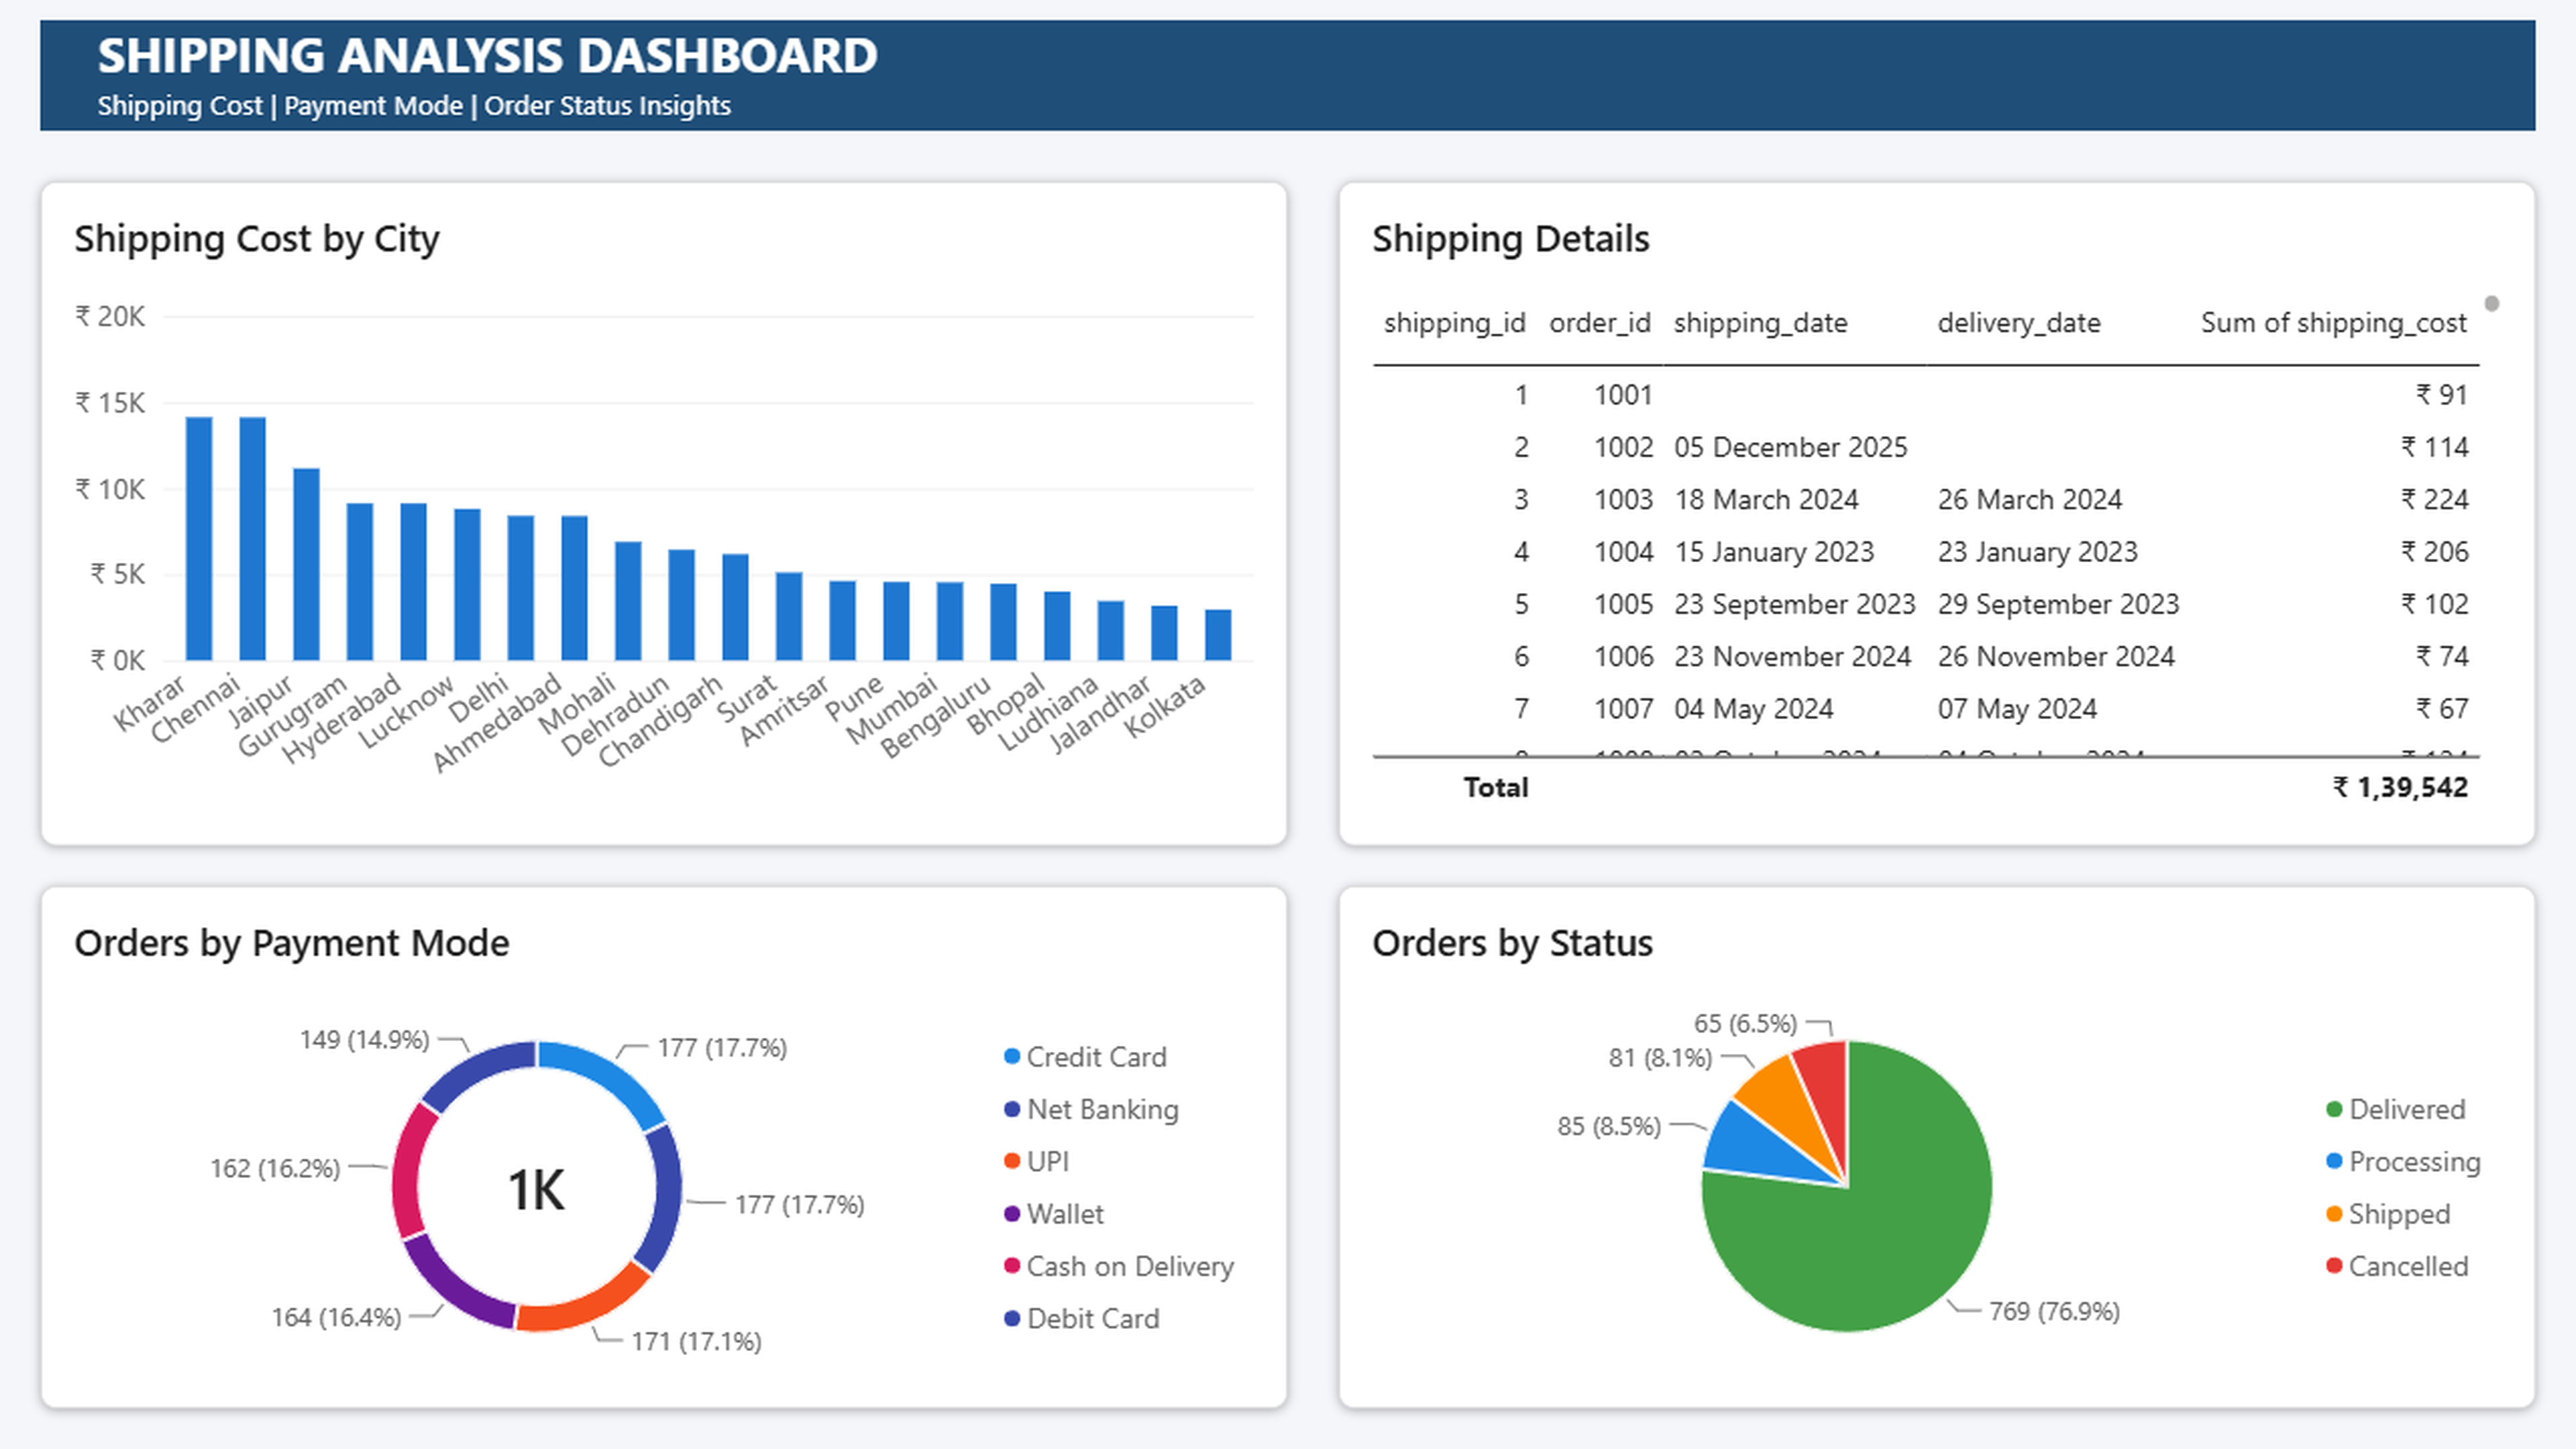

Layout of this report page (visuals, bound fields, positions):
{"tool":"powerbi","page":{"name":"Shipping Analysis","canvas":[1280,720],"ordinal":3},"visuals":[{"type":"clusteredColumnChart","title":"Shipping Cost by City","fields":{"Category":["retail_analytics customers.city"],"Y":["Sum(retail_analytics shipping.shipping_cost)"]},"box":[20,90,620,330],"z":0},{"type":"donutChart","title":"Orders by Payment Mode","fields":{"Category":["retail_analytics orders.payment_mode"],"Y":["CountNonNull(retail_analytics orders.order_id)"]},"box":[20,440,620,260],"z":1000},{"type":"pieChart","title":"Orders by Status","fields":{"Category":["retail_analytics orders.order_status"],"Y":["CountNonNull(retail_analytics orders.order_id)"]},"box":[665,440,595,260],"z":2000},{"type":"tableEx","title":"Shipping Details","fields":{"Values":["retail_analytics shipping.shipping_id","retail_analytics shipping.order_id","retail_analytics shipping.shipping_date","retail_analytics shipping.delivery_date","Sum(retail_analytics shipping.shipping_cost)"]},"box":[665,90,595,330],"z":3000},{"type":"shape","box":[20,10,1240,55],"z":4000},{"type":"textbox","box":[49.3,10.6,464.1,53],"z":5000}]}

Visuals, with their boxes in screenshot pixels (x1, y1, x2, y2), scaled from the page's 1280x720 canvas onto the 2576x1449 screenshot:
"Shipping Cost by City" clusteredColumnChart: detection(40, 181, 1288, 845)
"Orders by Payment Mode" donutChart: detection(40, 885, 1288, 1409)
"Orders by Status" pieChart: detection(1338, 885, 2536, 1409)
"Shipping Details" tableEx: detection(1338, 181, 2536, 845)
shape: detection(40, 20, 2536, 131)
textbox: detection(99, 21, 1033, 128)
